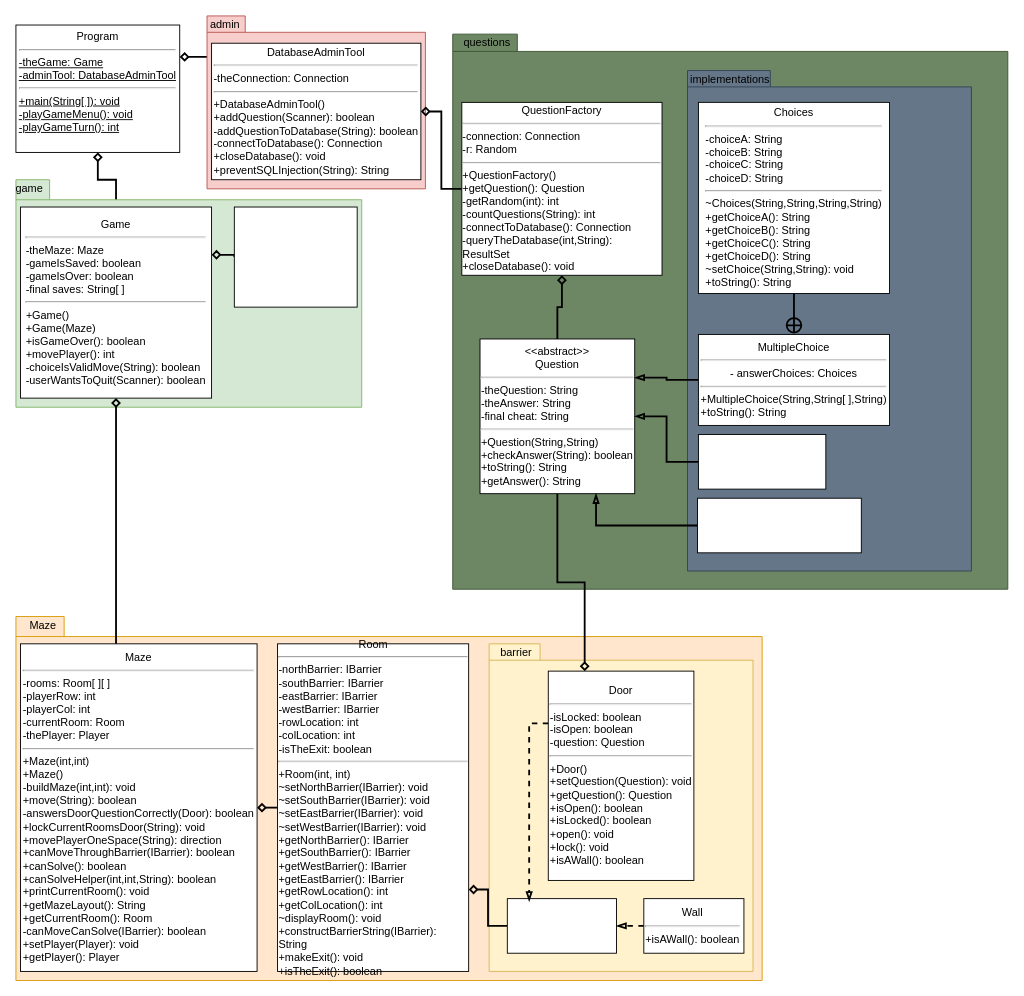
Image size: 1024x996. Some labels were removed from this diagram. The shapes that lost their labels are listed below. From the top down, each one's box as (x1, y1, x2, y2) in pixels, then its label:
(233, 206, 357, 307): Player -name: String +Player() +setName(String): void +getName(): String
(698, 434, 826, 489): TrueFalse +TrueFalse(String,String) +toString(): String
(697, 497, 861, 553): ShortAnswer public ShortAnswer(String,String)
(506, 898, 617, 953): <<interface>> IBarrier ~isAWall(): boolean
